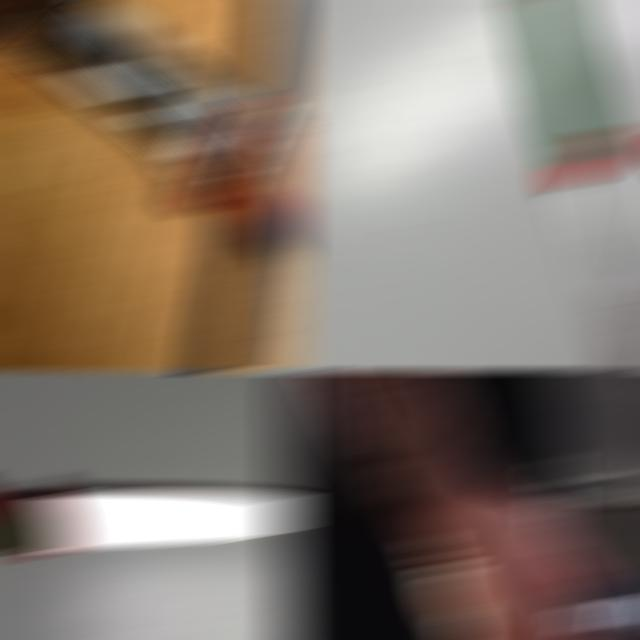Knife: (513, 2, 640, 370), (0, 485, 300, 557), (560, 588, 640, 630)
Knife_Handle: (426, 496, 640, 638)
